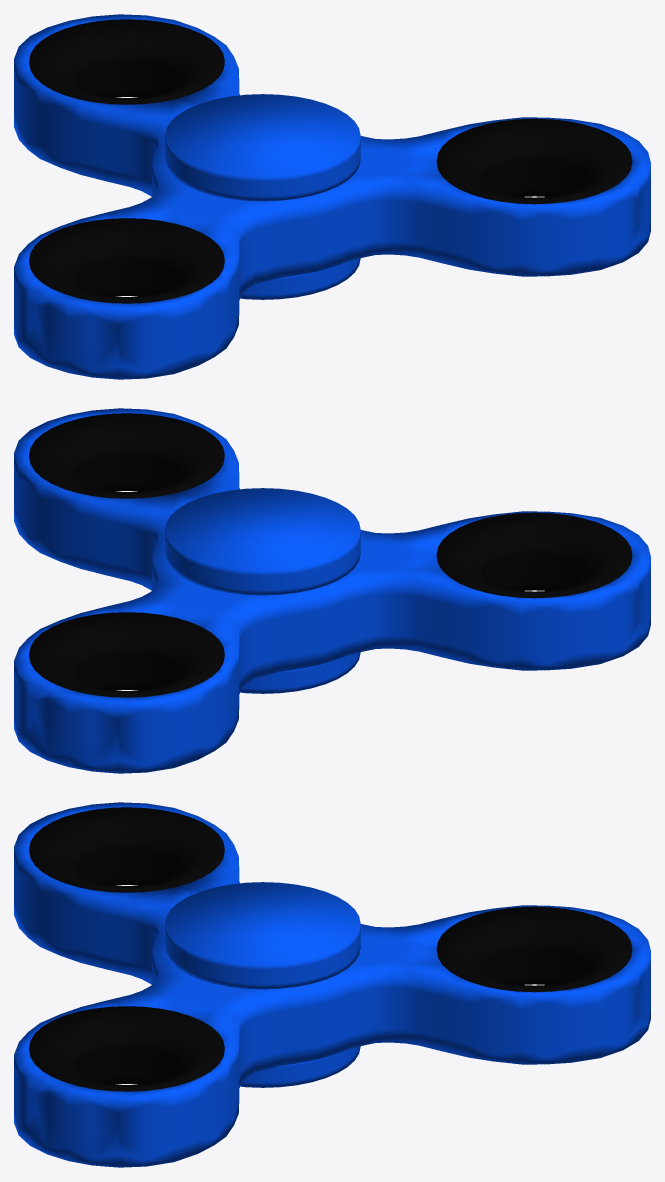
3 renders of one model, top to bottom at view 1: azimuth 30°, elevation 25°; view 2: azimuth 150°, elevation 25°; view 3: azimuth 270°, elevation 25°, orthographic.
Visible parts, largest first — view 1: Shell, Cores, Center; view 2: Shell, Cores, Center; view 3: Shell, Cores, Center.
Boxes of the visible parts, x1,y1,x2,y2 form: Shell: (14, 14, 650, 379); Cores: (29, 19, 632, 303); Center: (165, 94, 360, 299); Shell: (14, 408, 650, 773); Cores: (29, 413, 632, 697); Center: (165, 488, 360, 693); Shell: (14, 802, 650, 1167); Cores: (29, 807, 632, 1091); Center: (165, 882, 360, 1087).
Size of the model in its own units: 129 by 25 by 117.
Materials: 3 (3 with a texture image).
